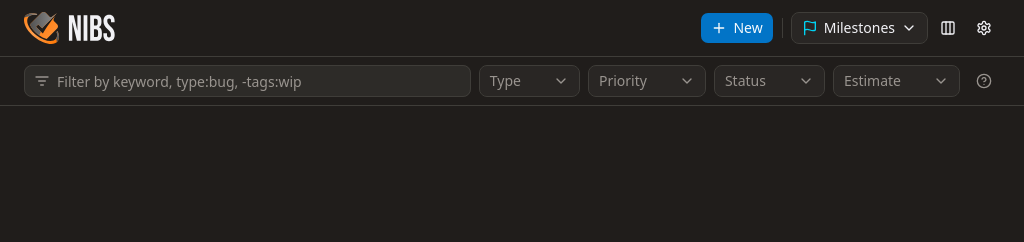
Toolbar › opens type dropdown with all 6 nib types when New item is clicked
The width and height of the screenshot is (1024, 242).
Click the button with test id "toolbar-add".
click(737, 28)  # box x1=700 y1=12 x2=774 y2=44
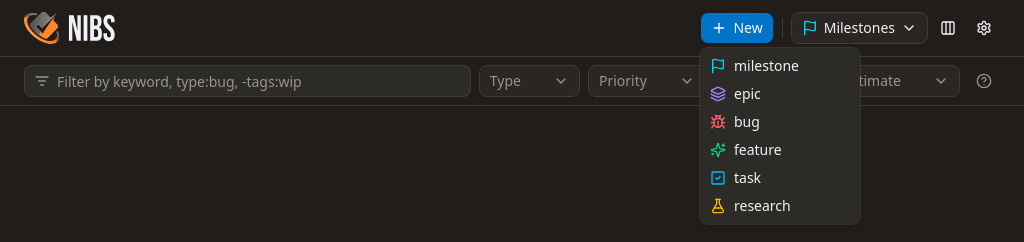
Now the number of menu items is 6, box x1=710 y1=56 x2=799 y2=75; x1=710 y1=84 x2=761 y2=103; x1=710 y1=112 x2=760 y2=131; x1=710 y1=140 x2=782 y2=159; x1=710 y1=168 x2=761 y2=187; x1=710 y1=196 x2=791 y2=215
Now the menu item with test id "toolbar-add-milestone" is shown, box x1=710 y1=56 x2=799 y2=75
Now the menu item with test id "toolbar-add-epic" is shown, box x1=710 y1=84 x2=761 y2=103
